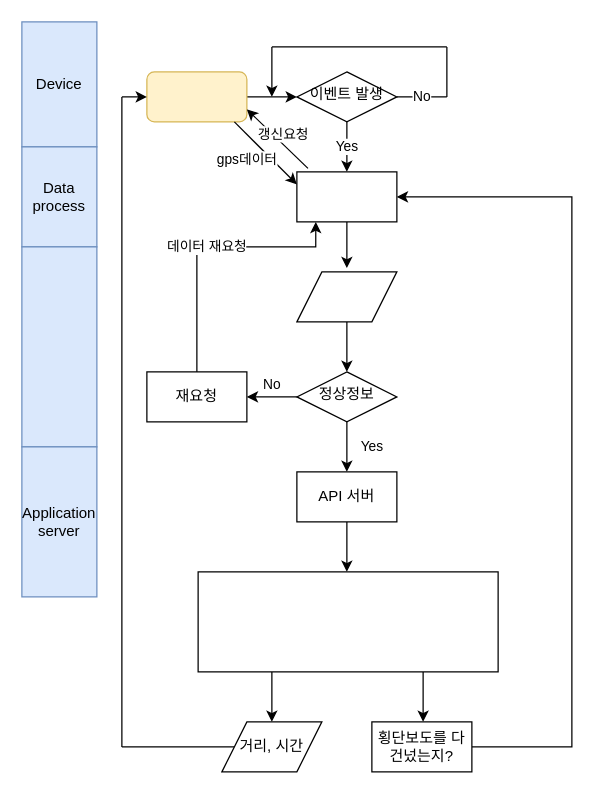
The diagram is 604 pixels wide and 794 high, and some of its shapes have lost their labels. The centre of each missing label's shape, as x and y in pixels:
"Data check" belongs at (x=59, y=346).
"GPS 정보" belongs at (x=346, y=296).
"GPS정보 갱신" belongs at (x=346, y=196).
"라즈베리 기기" belongs at (x=196, y=96).
"카카오맵 api 호출 GPS 좌표를 이용해서 거리계산 거리를 이용하여 시간계산" belongs at (x=347, y=621).
